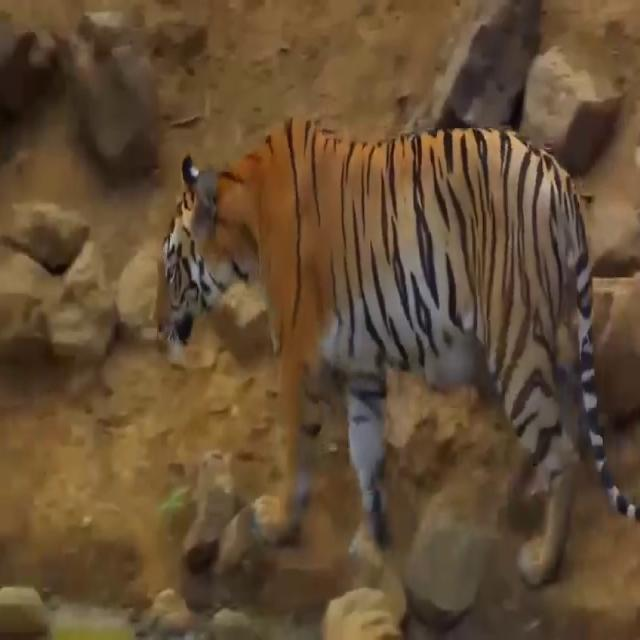tiger: (154, 114, 640, 588)
